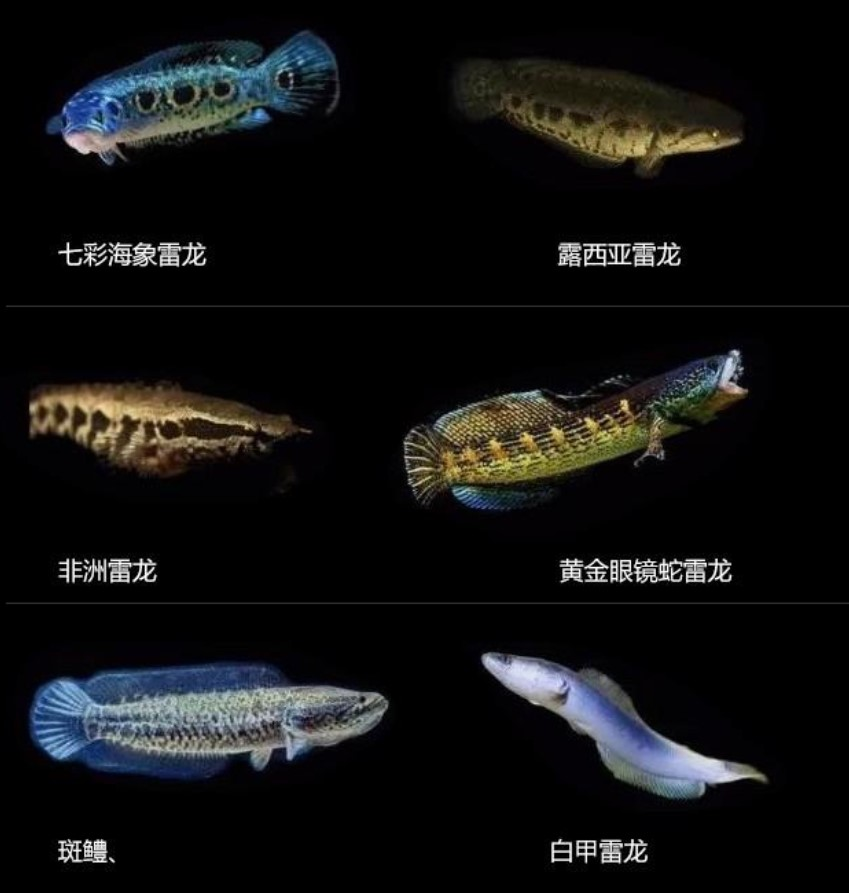Fish: (375, 337, 774, 530), (463, 628, 807, 816), (15, 661, 429, 798), (440, 29, 764, 192), (29, 23, 364, 173), (30, 373, 346, 504)
